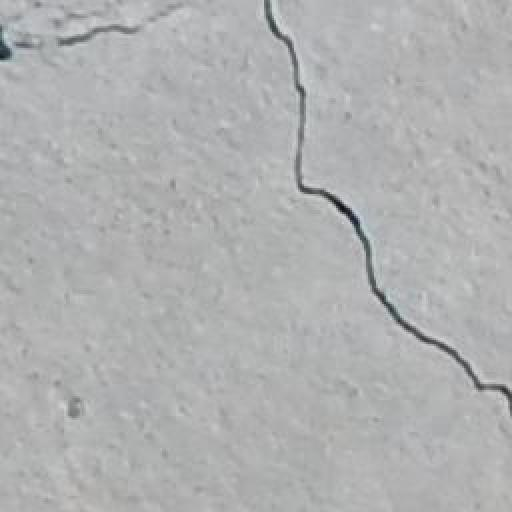spalling: (251, 8, 508, 399)
